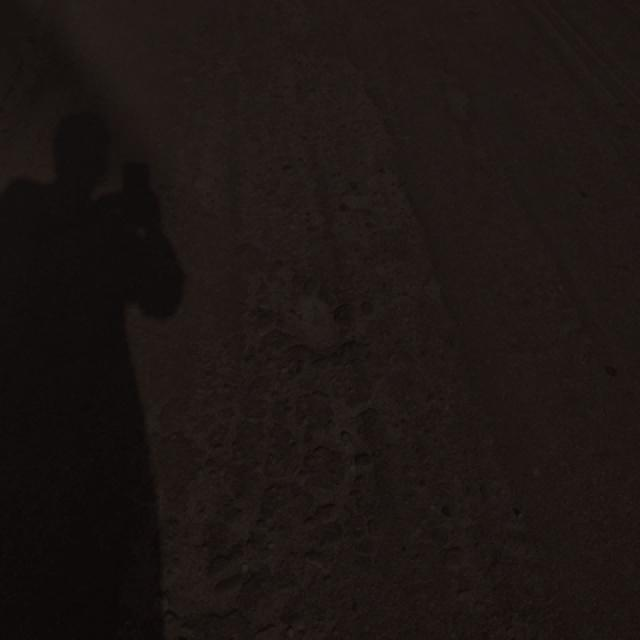Pothole: (222, 255, 390, 614)
